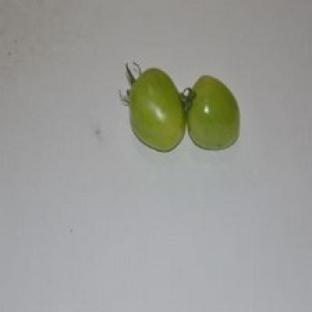Tomato: (127, 69, 185, 151), (187, 76, 239, 150)
